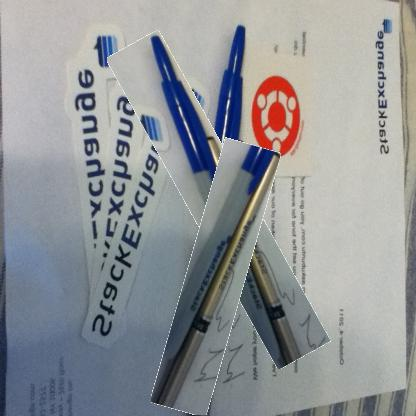Pen: (147, 26, 289, 374), (167, 138, 263, 415)
